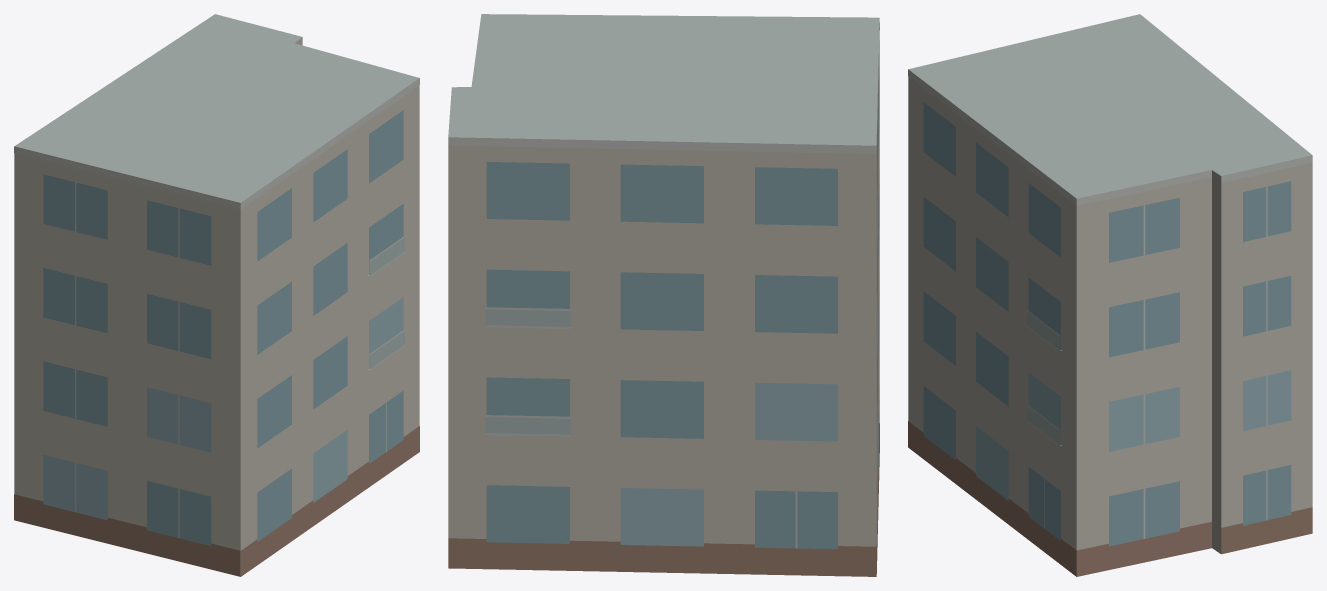
The model's file is survey-upis-32904919.glb.
3 views of the same model, side by side, from view 1: azimuth 30°, elevation 25°; view 2: azimuth 150°, elevation 25°; view 3: azimuth 270°, elevation 25° (orthographic). The views are drawn at different scales.
Parts seen in each view (by area): view 1: survey-upis-32904919.tmp; view 2: survey-upis-32904919.tmp; view 3: survey-upis-32904919.tmp.
Part boxes in pixels (x1,y1,x2,y2): survey-upis-32904919.tmp: (14, 14, 419, 576); survey-upis-32904919.tmp: (448, 14, 879, 576); survey-upis-32904919.tmp: (908, 14, 1312, 576).
Bounding box in the file's own units: 13.47 × 12.85 × 12.46.
